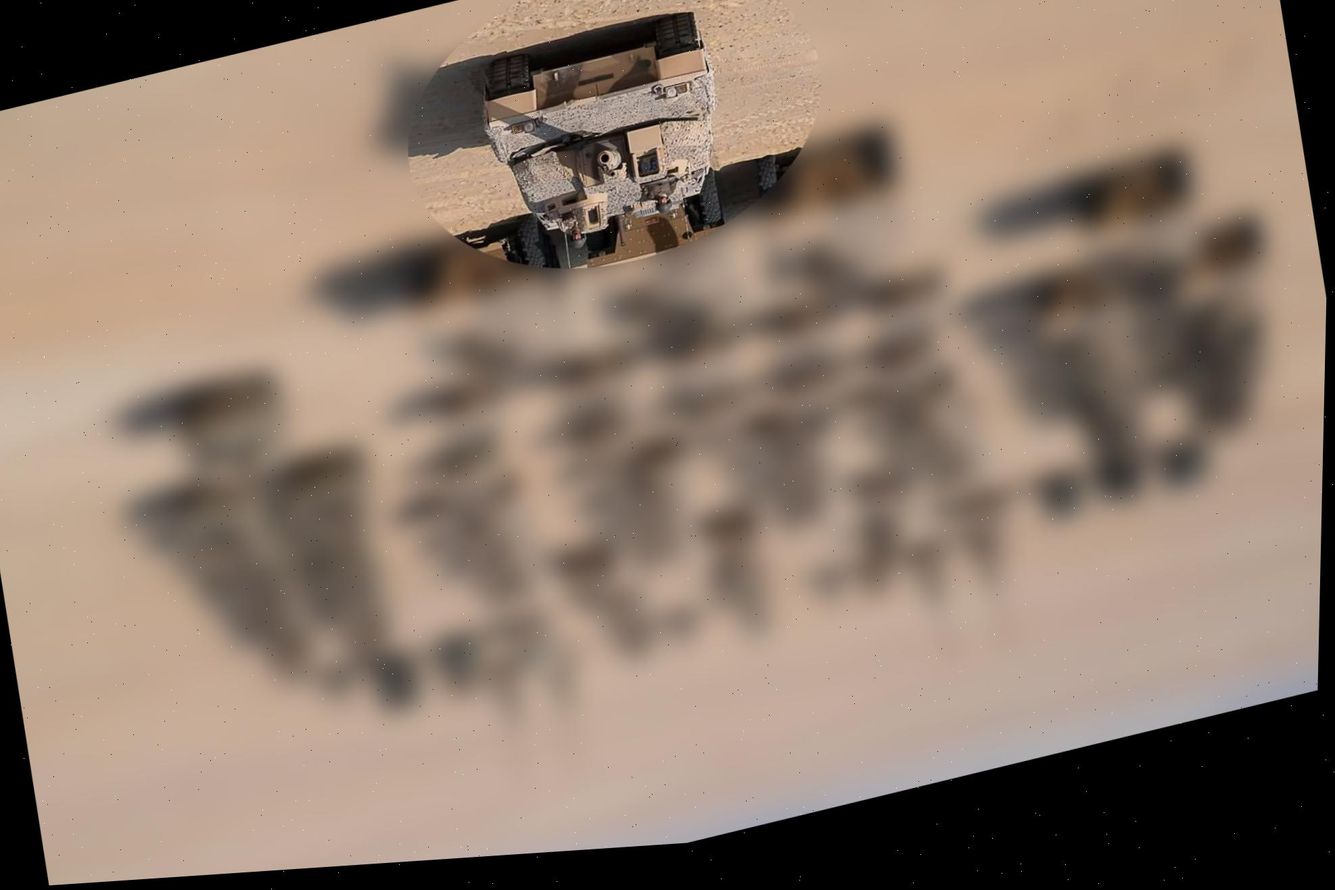tank: (460, 0, 744, 265)
